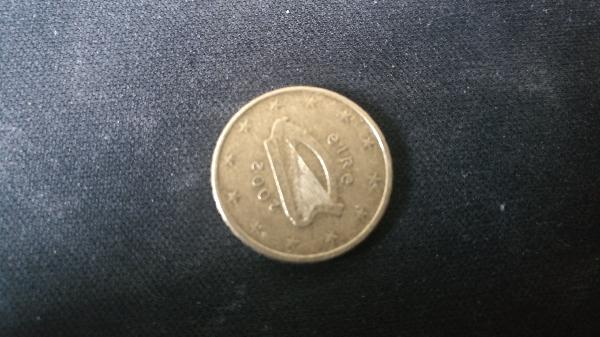Ten Cent: (211, 80, 407, 269)
